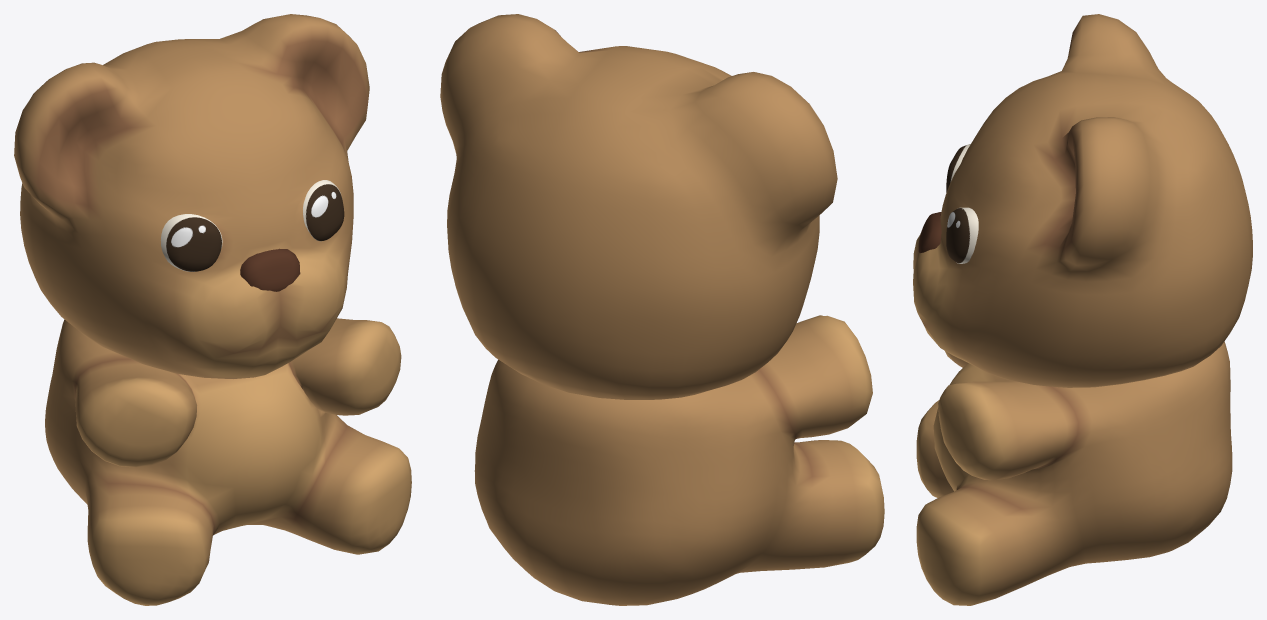
The model's file is bear.fbx.
3 renders of one model, left to right at view 1: azimuth 30°, elevation 25°; view 2: azimuth 150°, elevation 25°; view 3: azimuth 270°, elevation 25°, orthographic. The views are drawn at different scales.
Parts seen in each view (by area): view 1: bear, bear_eyes; view 2: bear; view 3: bear, bear_eyes.
Boxes of the visible parts, bbox=[...] form: bear: bbox=[14, 14, 411, 605]; bear_eyes: bbox=[160, 180, 344, 271]; bear: bbox=[440, 14, 884, 605]; bear: bbox=[913, 14, 1252, 605]; bear_eyes: bbox=[946, 144, 978, 263].
Size of the model in its own units: 1.14 by 1.52 by 0.9779.
